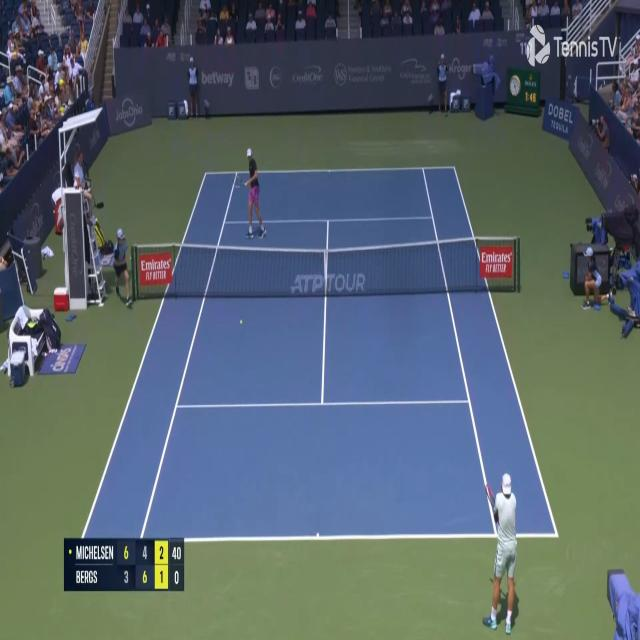tennis-player: (482, 468, 520, 640), (242, 149, 268, 242)
